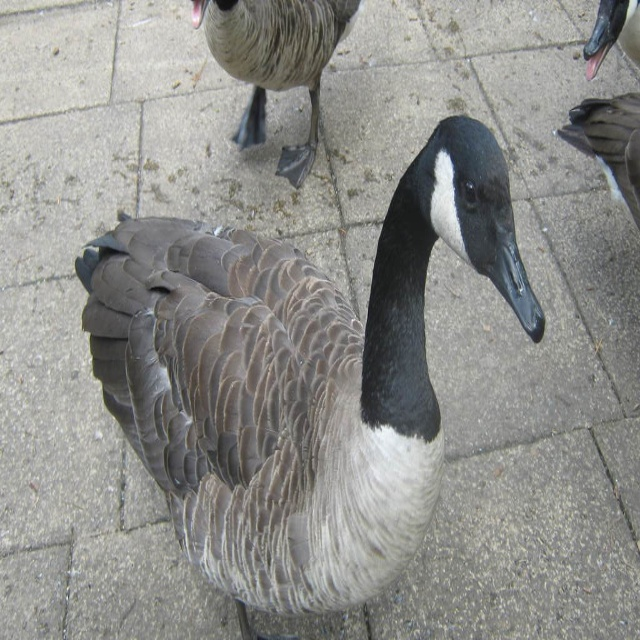Goose: (78, 123, 545, 638), (192, 0, 357, 201)
